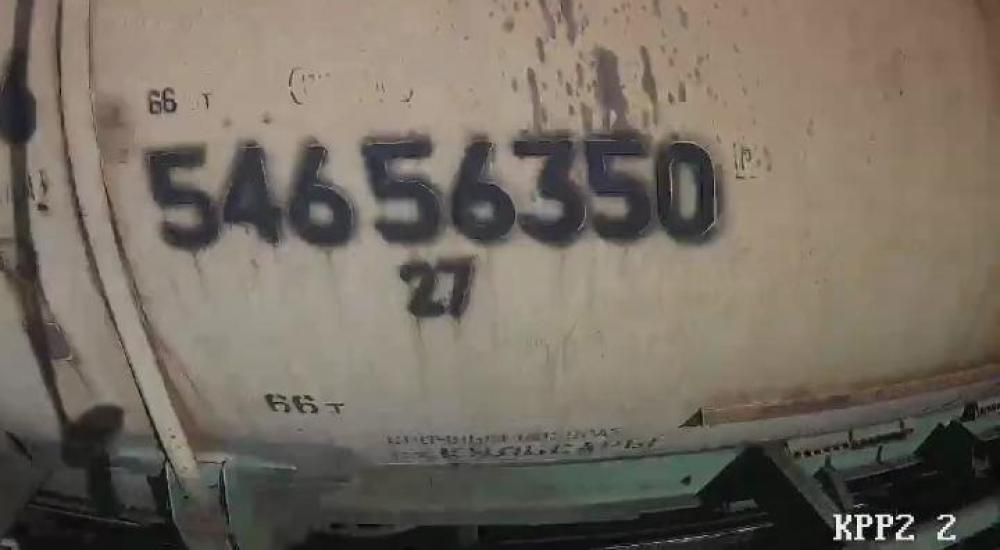Wagon-number: (138, 129, 730, 251)
